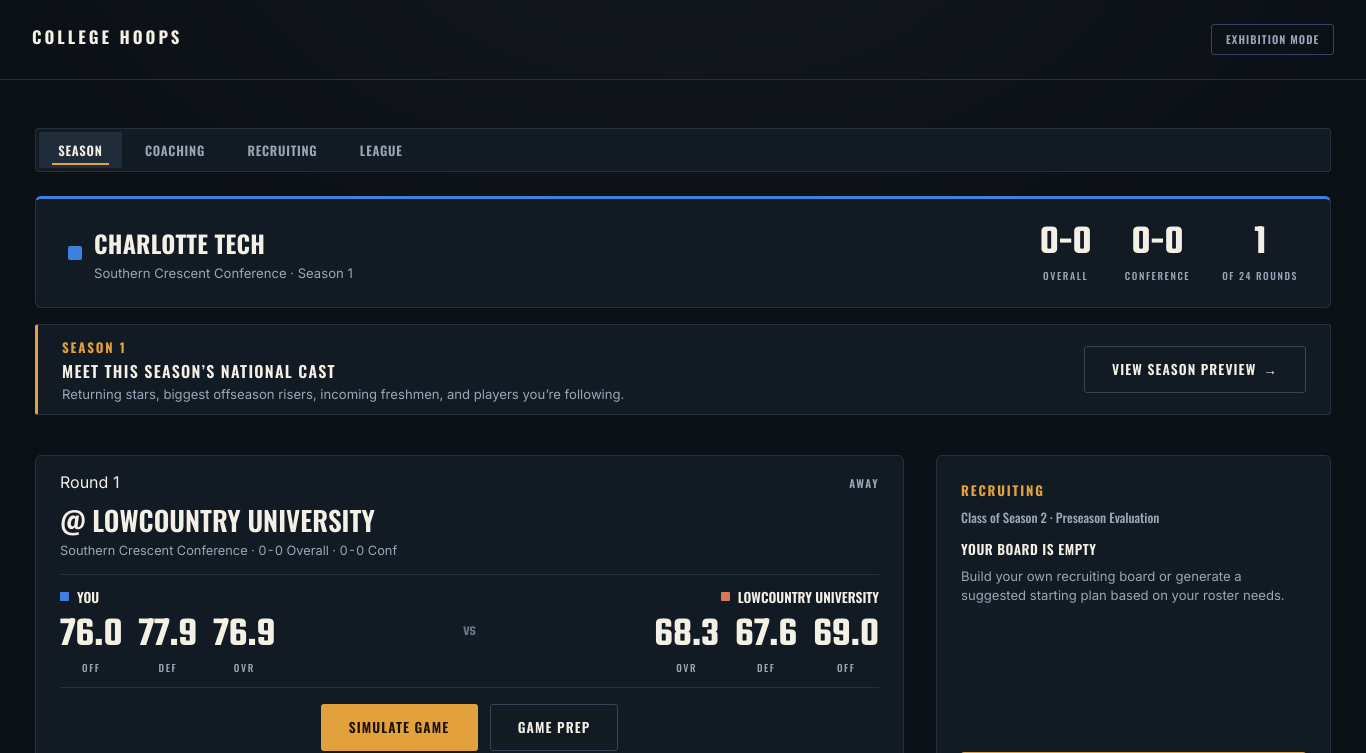
Test case: League navigation › returns to the Season Hub via the primary section nav
Click the button "League": (381, 150) [341,132,422,168]
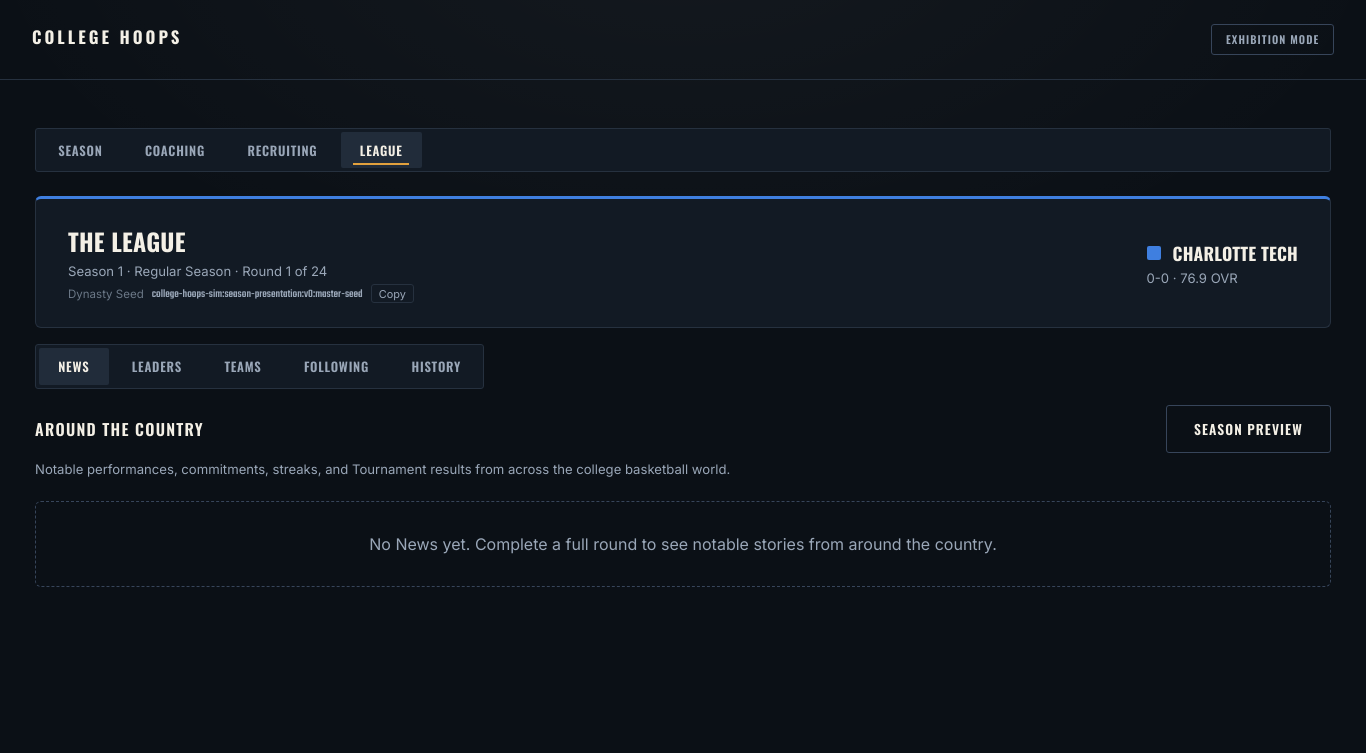
Click the button "Season": (80, 150) [39,132,122,168]
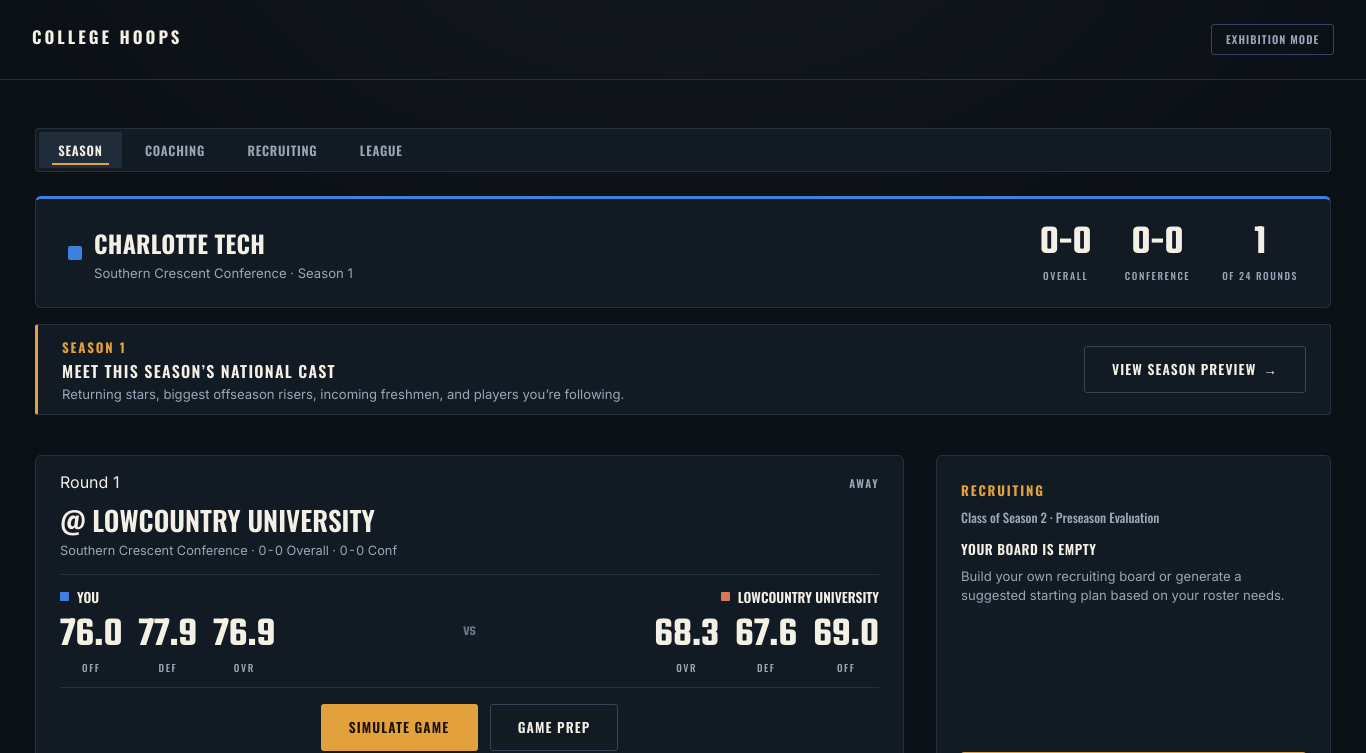
Result: the heading "Charlotte Tech" is shown at [94,225,265,261]
